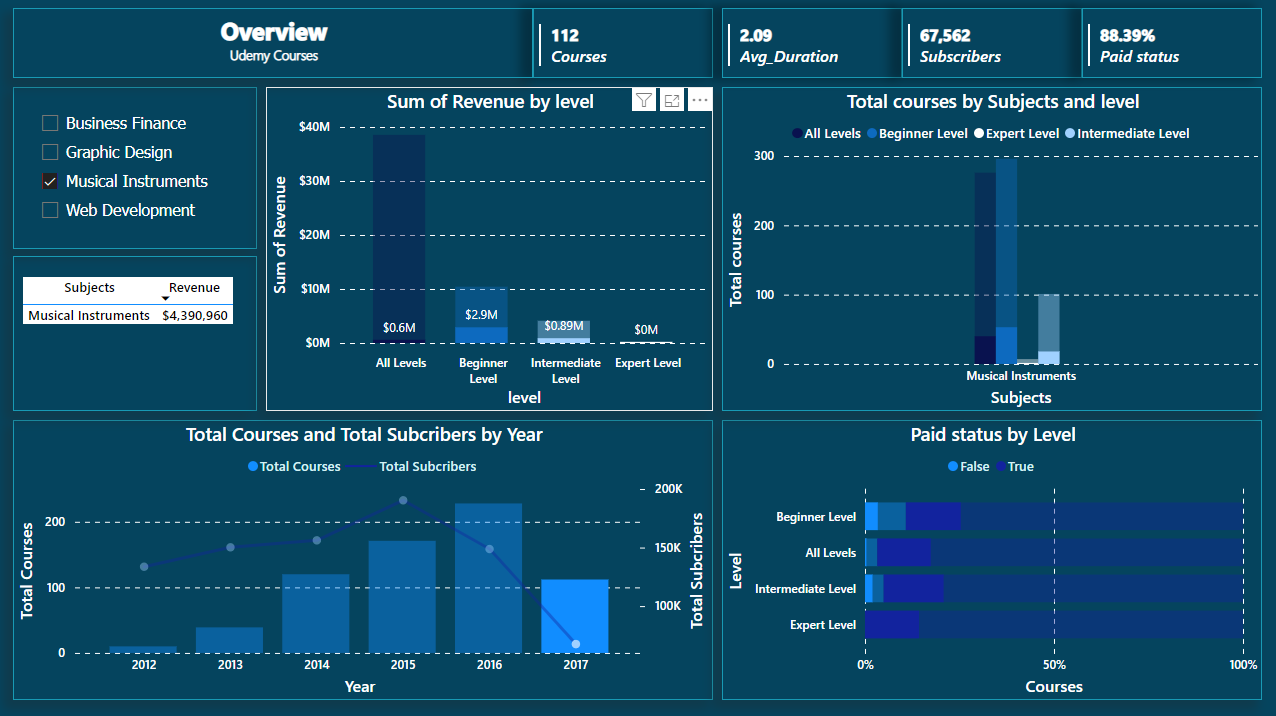

Layout of this report page (visuals, bound fields, positions):
{"tool":"powerbi","page":{"name":"Overviews","canvas":[1280,720],"ordinal":0},"visuals":[{"type":"lineStackedColumnComboChart","fields":{"Category":["2  Udemy_courses.published_timestamp.Variation.Date Hierarchy.Year","2  Udemy_courses.published_timestamp.Variation.Date Hierarchy.Month"],"Y2":["Sum(2  Udemy_courses.num_subscribers)"],"Y":["CountNonNull(Udemy_courses.course_title)"]},"box":[15,422,700,280],"z":0},{"type":"hundredPercentStackedBarChart","title":"Paid status each Level","fields":{"Category":["Udemy_courses.level"],"Series":["Udemy_courses.is_paid"],"Y":["CountNonNull(Udemy_courses.course_id)"]},"box":[724,422,540,280],"z":1000},{"type":"multiRowCard","title":"Courses","fields":{"Values":["CountNonNull(2  Udemy_courses.course_title)"]},"box":[535,10,180,70],"z":2000},{"type":"multiRowCard","fields":{"Values":["2  Udemy_courses.Average of content_duration average per course_title"]},"box":[723.8,10,180,70],"z":3000},{"type":"multiRowCard","fields":{"Values":["Sum(2  Udemy_courses.num_subscribers)"]},"box":[903.8,10,180,70],"z":4000},{"type":"slicer","title":"Subjects","fields":{"Values":["2  Udemy_courses.subject"]},"box":[15,89,244,162],"z":5000},{"type":"textbox","box":[15,10,520,70],"z":6000},{"type":"tableEx","fields":{"Values":["Udemy_courses.subject","Sum(Udemy_courses.Revenue)"]},"box":[15,257.9,244.3,155],"z":7000},{"type":"clusteredColumnChart","fields":{"Category":["Udemy_courses.subject"],"Y":["CountNonNull(Udemy_courses.course_title)"],"Series":["Udemy_courses.level"]},"box":[724,89,540,324],"z":8000},{"type":"multiRowCard","fields":{"Values":["Udemy_courses.Paid status"]},"box":[1083.8,10,180,70],"z":9000},{"type":"columnChart","fields":{"Y":["Sum(Udemy_courses.Revenue)"],"Category":["Udemy_courses.level"]},"box":[268,89,447,324],"z":10000}]}

Visuals, with their boxes in screenshot pixels (x1, y1, x2, y2), scaled from the page's 1280x720 canvas onto the 1276x716 screenshot:
lineStackedColumnComboChart - 2  Udemy_courses.published_timestamp.Variation.Date Hierarchy.Year x 2  Udemy_courses.published_timestamp.Variation.Date Hierarchy.Month: 15, 420, 713, 698
"Paid status each Level" hundredPercentStackedBarChart: 722, 420, 1260, 698
"Courses" multiRowCard: 533, 10, 713, 80
multiRowCard - 2  Udemy_courses.Average of content_duration average per course_title: 722, 10, 901, 80
multiRowCard - Sum(2  Udemy_courses.num_subscribers): 901, 10, 1080, 80
"Subjects" slicer: 15, 89, 258, 250
textbox: 15, 10, 533, 80
tableEx - Udemy_courses.subject x Sum(Udemy_courses.Revenue): 15, 256, 258, 411
clusteredColumnChart - Udemy_courses.subject x CountNonNull(Udemy_courses.course_title): 722, 89, 1260, 411
multiRowCard - Udemy_courses.Paid status: 1080, 10, 1260, 80
columnChart - Sum(Udemy_courses.Revenue) x Udemy_courses.level: 267, 89, 713, 411
